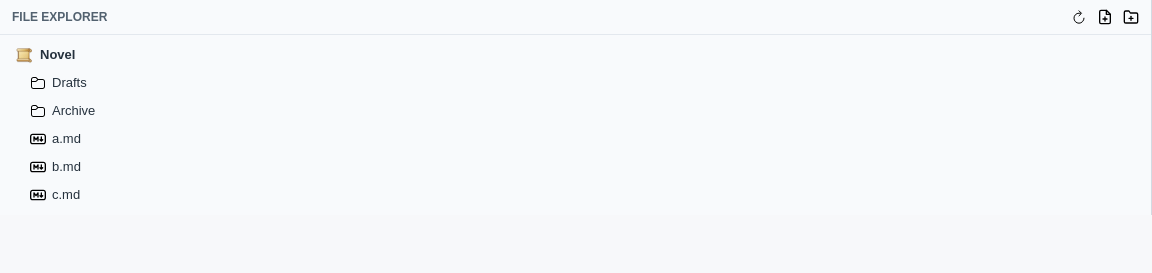
Test: FileExplorer context-menu Move — source selection (#327) › keeps the existing multi-selection when right-clicking a selected file
Click the list item "a.md". click: click(38, 139)
box: [6, 125, 1145, 153]
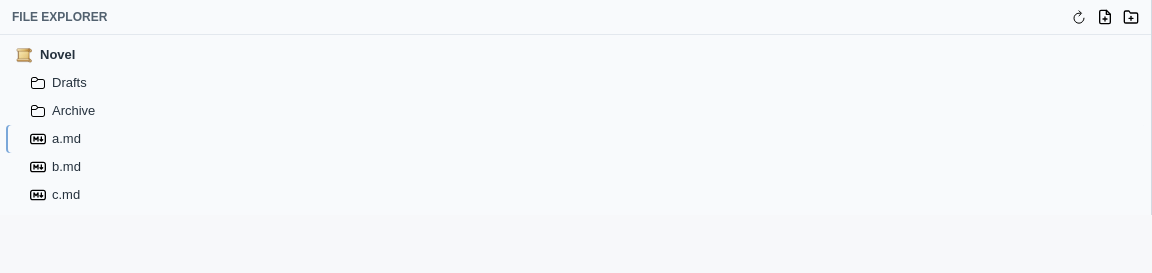
Click the list item "b.md". click: click(38, 167)
box: [6, 153, 1145, 181]
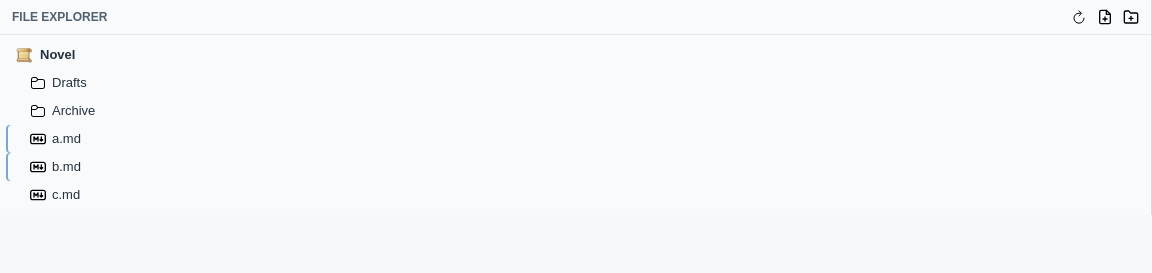
Right-click the list item "a.md" at (38, 139), box [6, 125, 1145, 153]
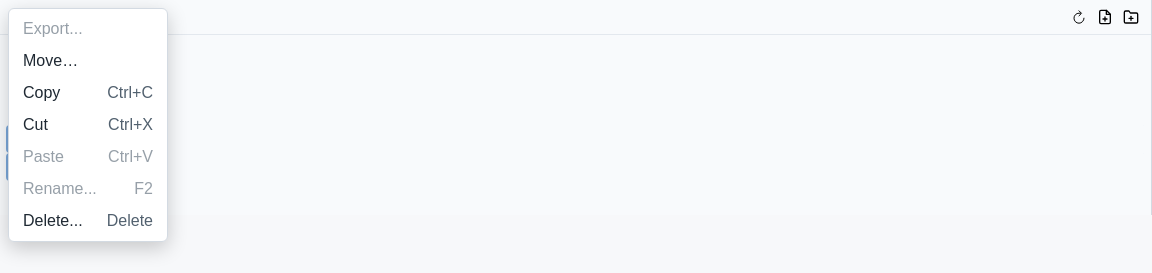
Now the menu item "Move…" is enabled, box [13, 45, 163, 77]
